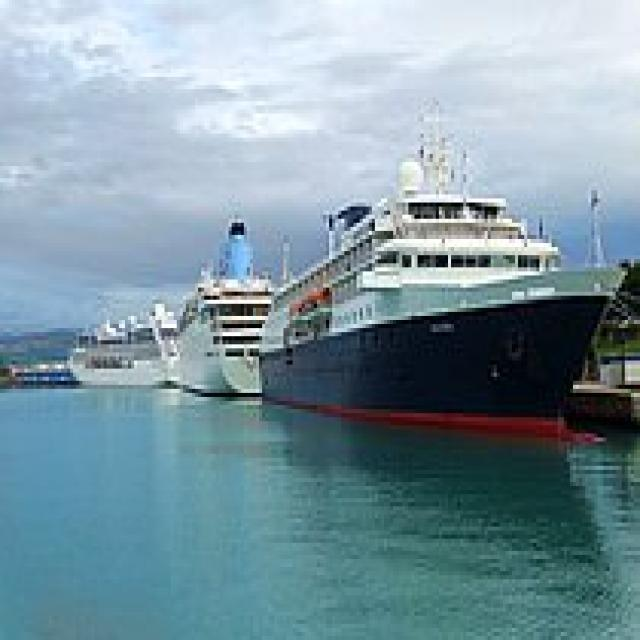Ship: (254, 151, 635, 451)
